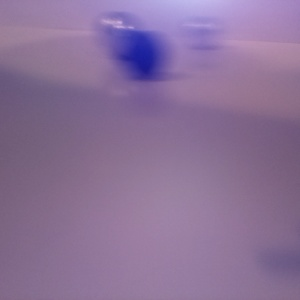alive_ball: (223, 25, 300, 120), (111, 34, 165, 90)
dead_ball: (1, 19, 34, 90), (141, 29, 185, 78)
